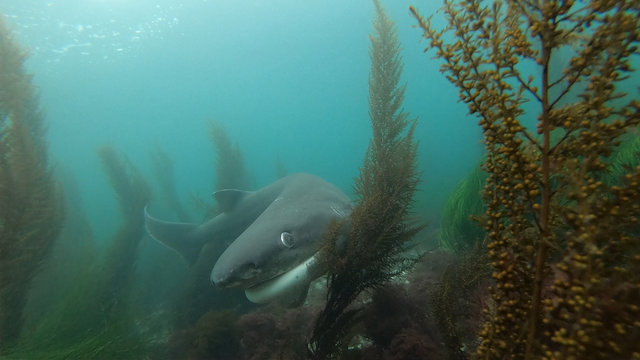Sevengill Shark: (101, 174, 389, 317)
